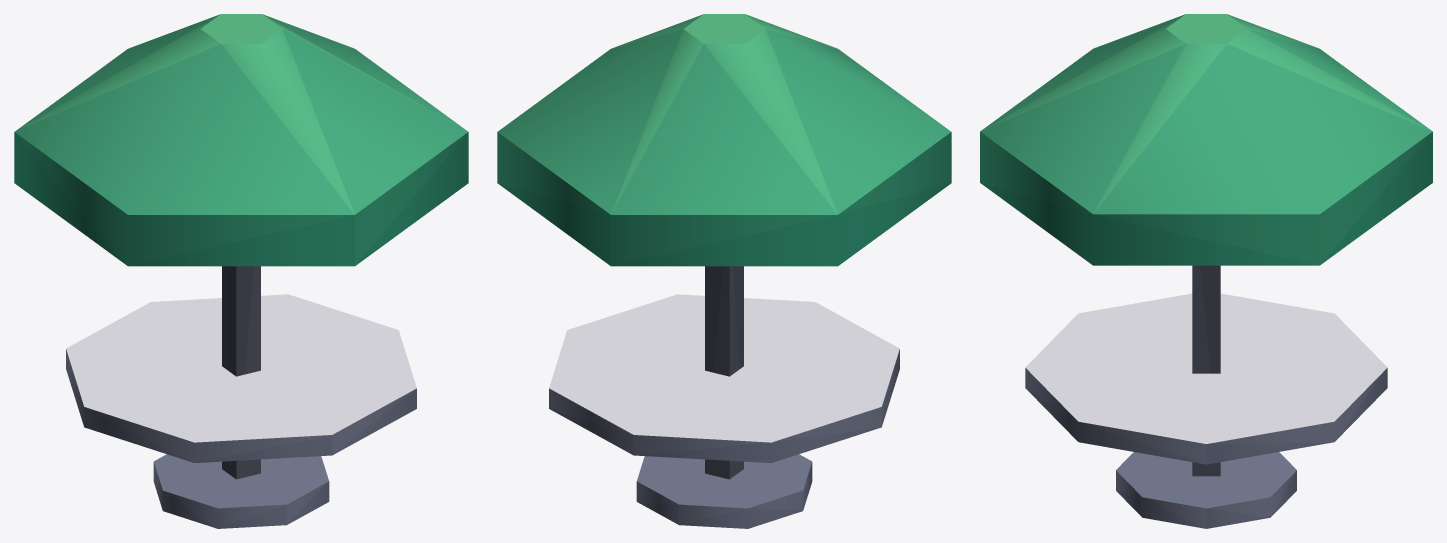
File: parasol.obj
3 renders of one model, left to right at view 1: azimuth 30°, elevation 25°; view 2: azimuth 150°, elevation 25°; view 3: azimuth 270°, elevation 25°, orthographic.
Bounding box in the file's own units: 0.3464 × 0.45 × 0.4.
